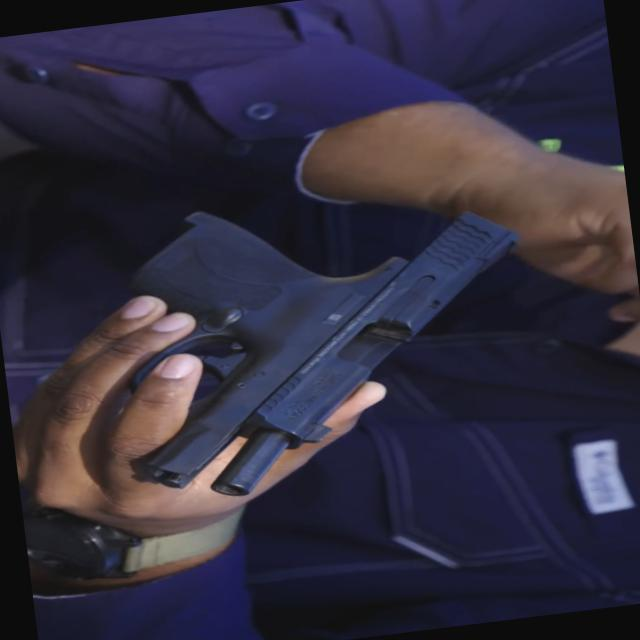handgun: (95, 182, 546, 514)
